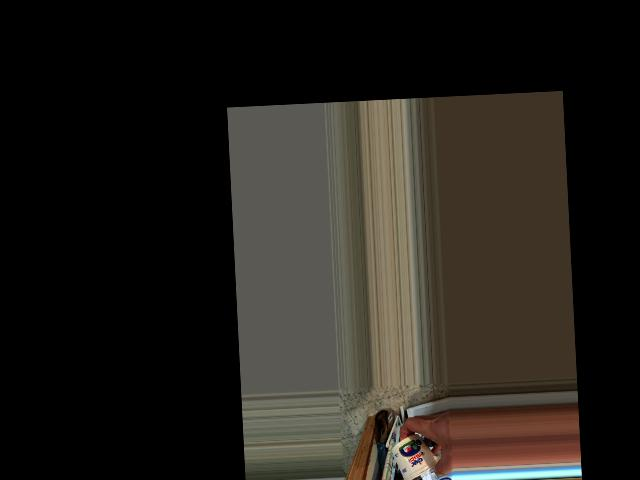cotage: (391, 435, 437, 480)
